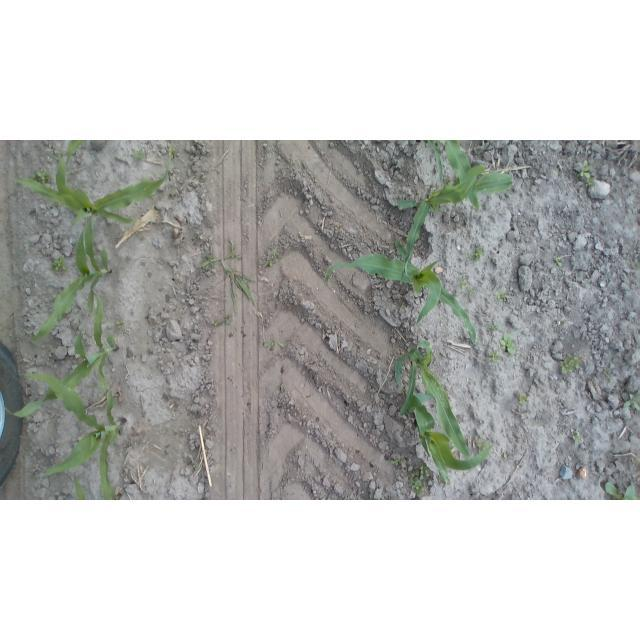Maize: (4, 291, 124, 419), (388, 341, 493, 483), (24, 223, 148, 342), (326, 251, 481, 345), (21, 373, 129, 499), (12, 152, 164, 240), (396, 140, 513, 233)
Weeds: (198, 244, 261, 311), (408, 463, 431, 495), (606, 479, 638, 500), (578, 158, 596, 188), (262, 333, 287, 354), (560, 358, 585, 378), (500, 331, 516, 358), (458, 277, 479, 297), (263, 245, 280, 267), (624, 393, 640, 414), (31, 168, 52, 184), (49, 259, 68, 274), (469, 244, 484, 263), (515, 392, 531, 409), (570, 431, 586, 447), (213, 316, 234, 328), (131, 149, 148, 162), (490, 351, 502, 368), (498, 292, 512, 304), (114, 316, 124, 332), (555, 254, 566, 268), (390, 455, 401, 469)
